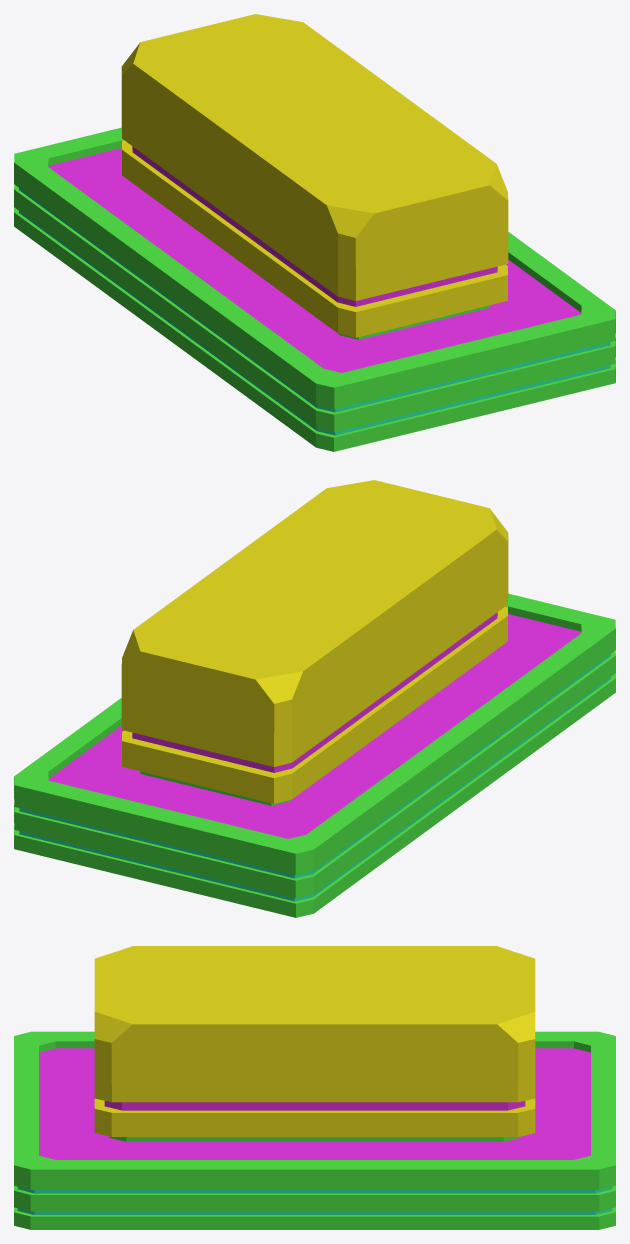
File: Lamp_10.fbx
3 views of the same model, one above another, from view 1: azimuth 30°, elevation 25°; view 2: azimuth 150°, elevation 25°; view 3: azimuth 270°, elevation 25° (orthographic). The views are drawn at different scales.
Visible parts, largest first — view 1: Lamp_10; view 2: Lamp_10; view 3: Lamp_10.
Part boxes in pixels (bbox=[...]): Lamp_10: bbox=[14, 14, 615, 451]; Lamp_10: bbox=[14, 480, 615, 917]; Lamp_10: bbox=[14, 946, 615, 1229].
Bounding box in the file's own units: 60.96 × 36.29 × 113.
